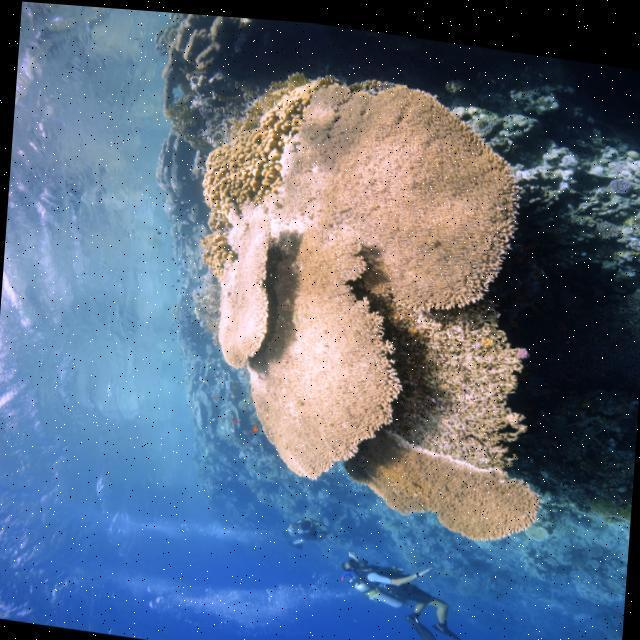Healthy Coral: (185, 46, 570, 548)
